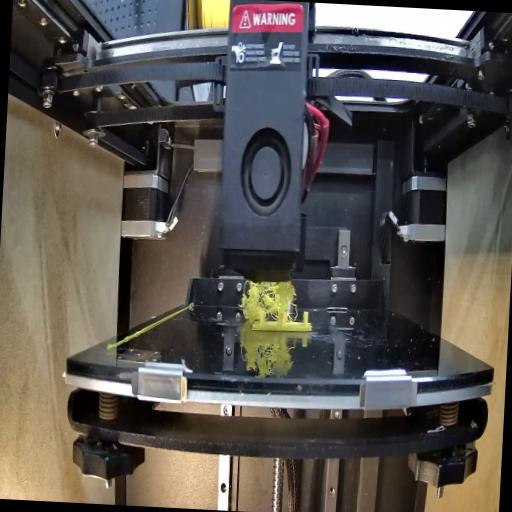spaghetti: (238, 273, 301, 327)
